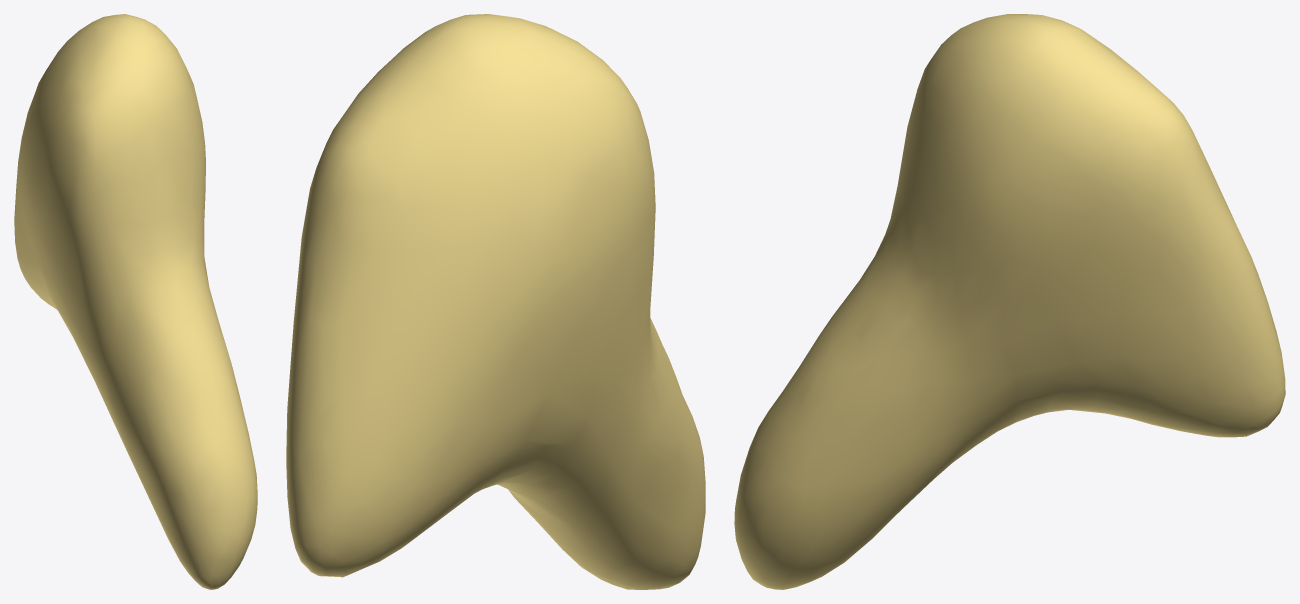
The model's file is fma73339_mm2965m.glb.
3 renders of one model, left to right at view 1: azimuth 30°, elevation 25°; view 2: azimuth 150°, elevation 25°; view 3: azimuth 270°, elevation 25°, orthographic. The views are drawn at different scales.
Visible parts, largest first — view 1: FMA73339_MM2965M; view 2: FMA73339_MM2965M; view 3: FMA73339_MM2965M.
Part boxes in pixels (box(x1,y1,x2,y2)): FMA73339_MM2965M: box(14, 14, 257, 589); FMA73339_MM2965M: box(286, 14, 705, 589); FMA73339_MM2965M: box(734, 14, 1285, 589).
Bounding box in the file's own units: 0.00277 × 0.00752 × 0.00652.
